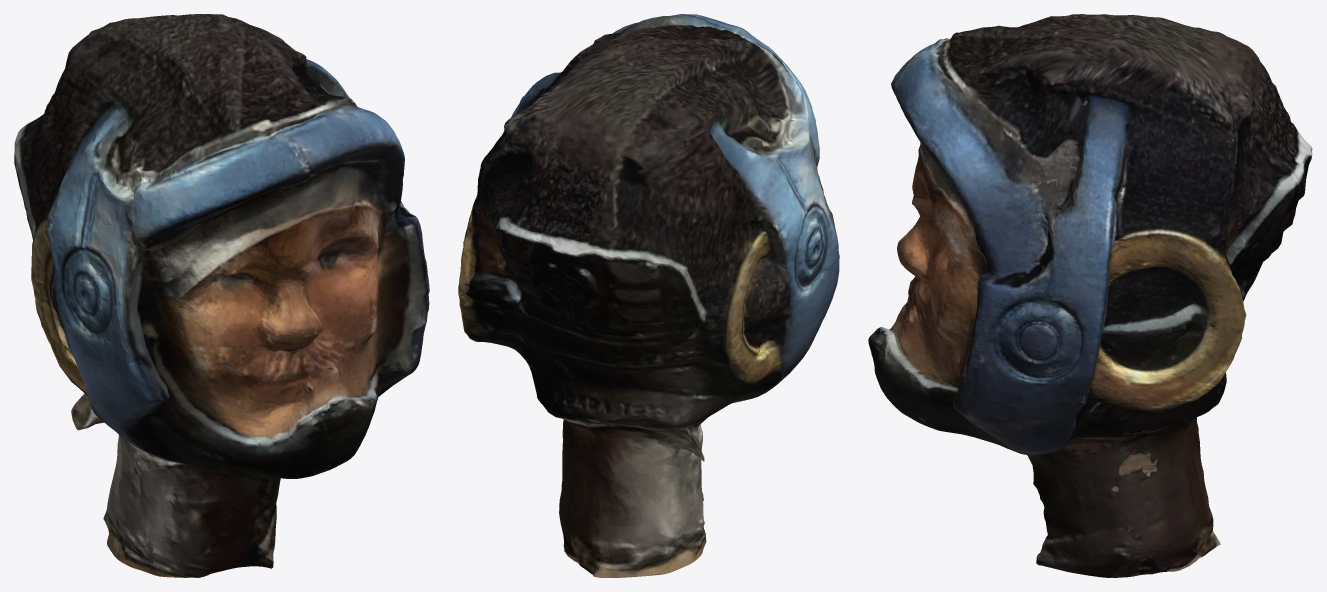
File: Error sculpt 03072024.glb
The picture shows the model from 3 angles, left to right: view 1: azimuth 30°, elevation 25°; view 2: azimuth 150°, elevation 25°; view 3: azimuth 270°, elevation 25°; orthographic projection. The views are drawn at different scales.
Parts seen in each view (by area): view 1: Mesh_0; view 2: Mesh_0; view 3: Mesh_0.
Boxes of the visible parts, x1,y1,x2,y2 form: Mesh_0: (14,14,429,577); Mesh_0: (458,14,839,577); Mesh_0: (868,14,1312,577).
Size of the model in its own units: 0.0465 by 0.0707 by 0.0545.
1 material, 1 textured.
